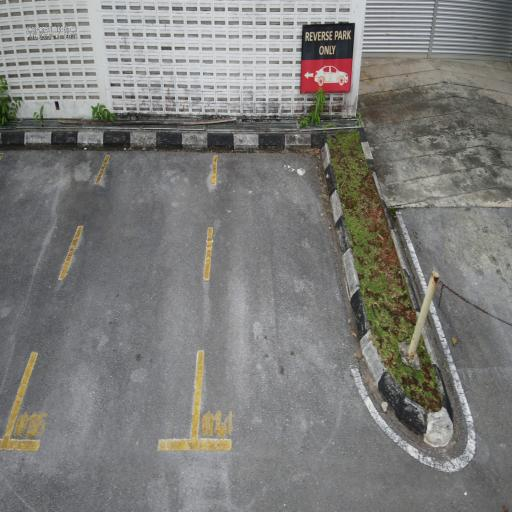Empty: (1, 129, 221, 457), (183, 130, 398, 462)
